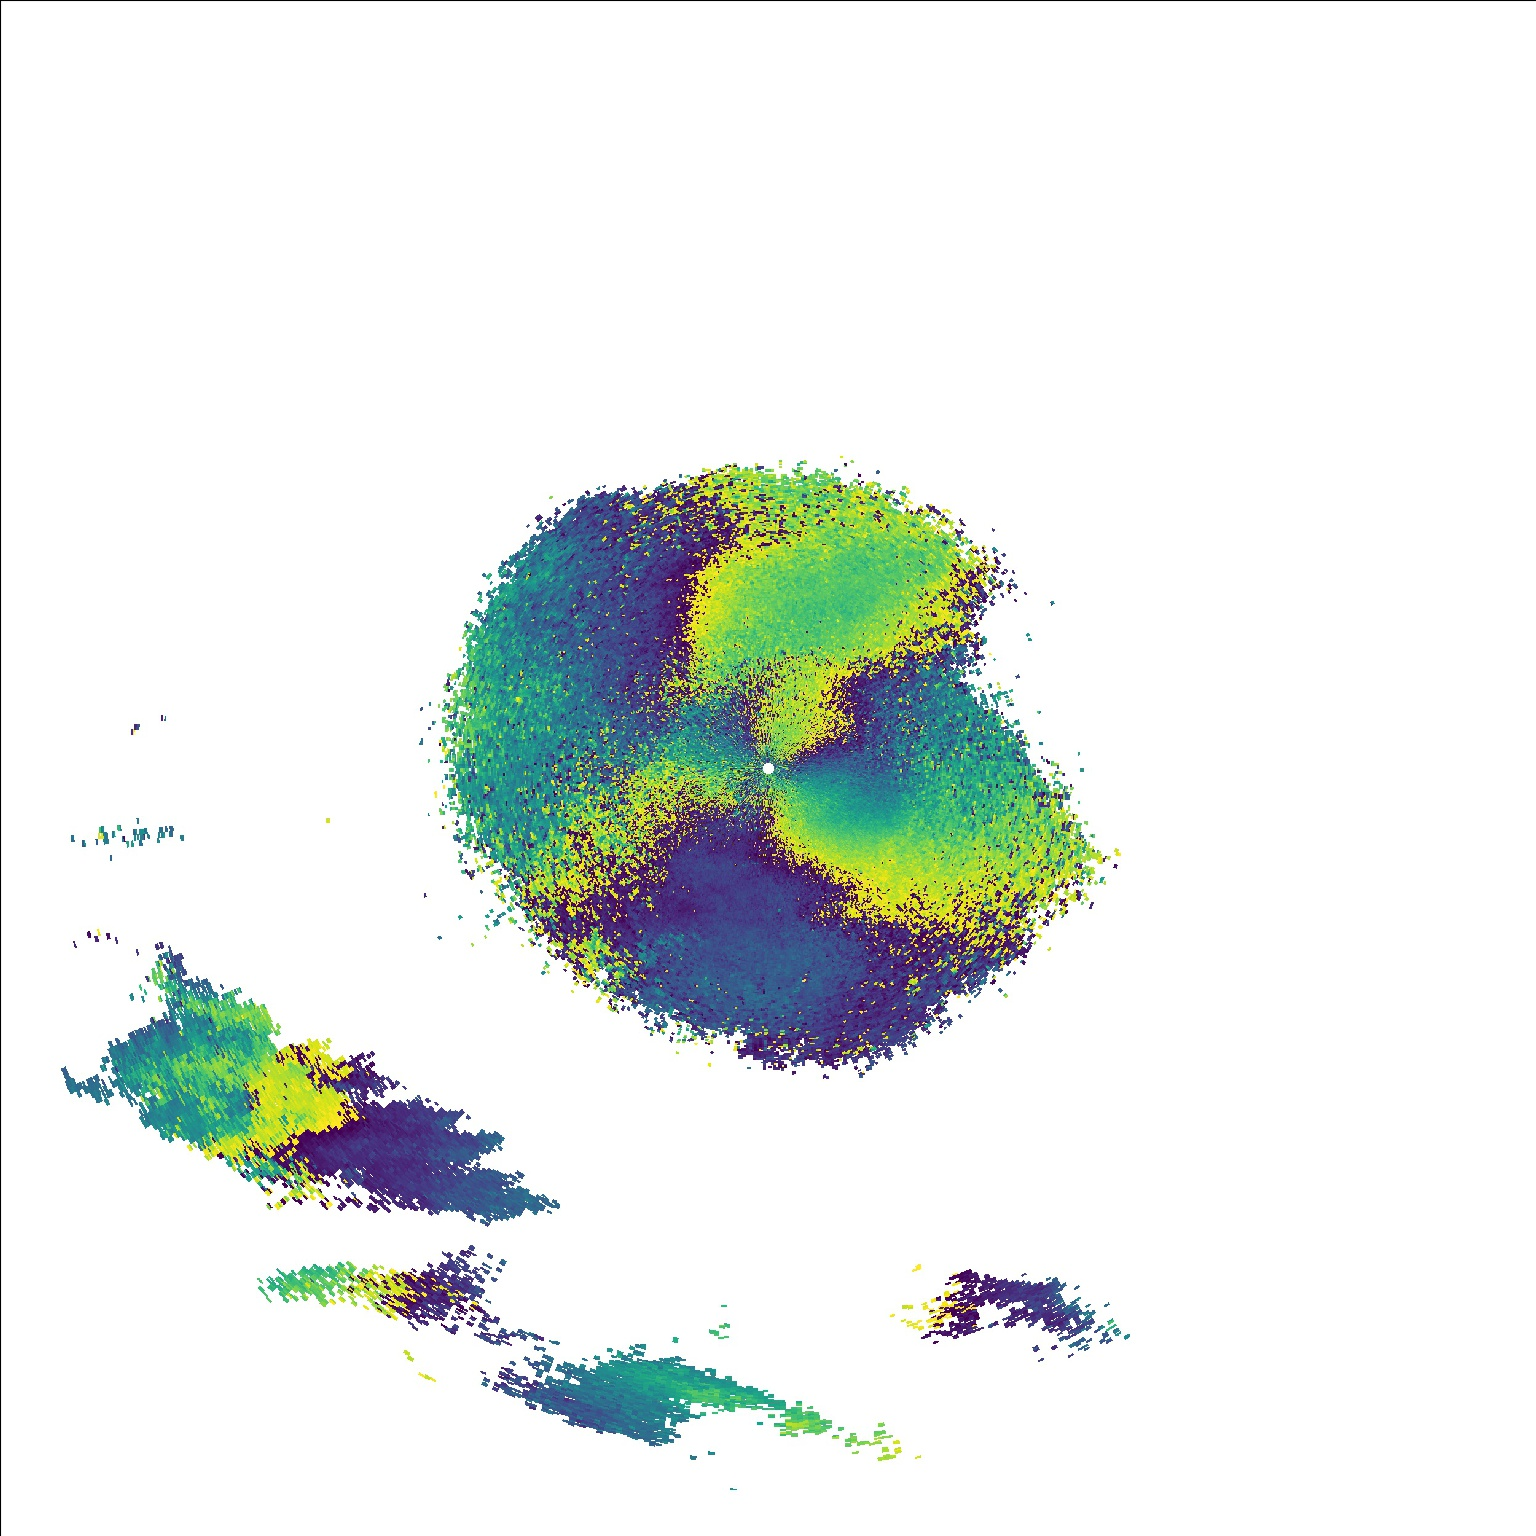fall: (59, 819, 193, 862)
